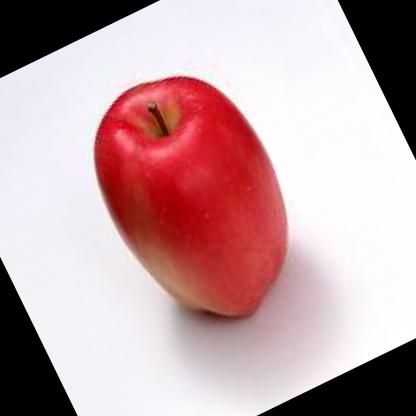apple: (60, 41, 333, 356)
